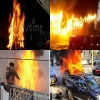fire: (50, 9, 97, 37), (15, 50, 39, 93), (6, 0, 26, 50), (59, 51, 84, 78)
